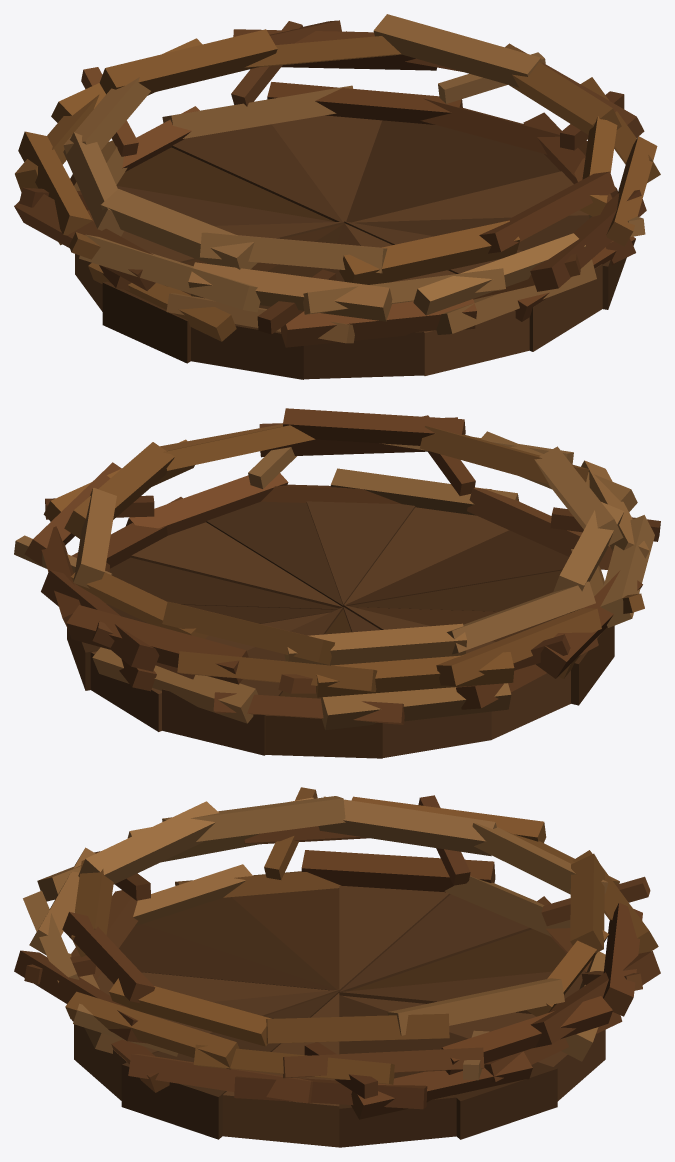
Rendered from nest.glb.
3 views of the same model, one above another, from view 1: azimuth 30°, elevation 25°; view 2: azimuth 150°, elevation 25°; view 3: azimuth 270°, elevation 25° (orthographic). The views are drawn at different scales.
Parts seen in each view (by area): view 1: nest; view 2: nest; view 3: nest.
Boxes of the visible parts, x1,y1,x2,y2 form: nest: (14, 14, 660, 379); nest: (14, 408, 660, 758); nest: (14, 787, 660, 1147).
Bounding box in the file's own units: 1.46 × 0.3195 × 1.42.
